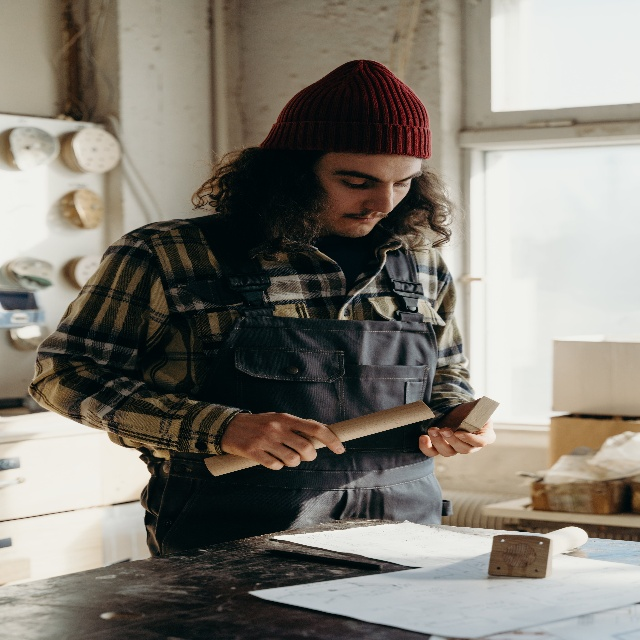Sin_guantes: (238, 412, 344, 467), (418, 402, 495, 463)
